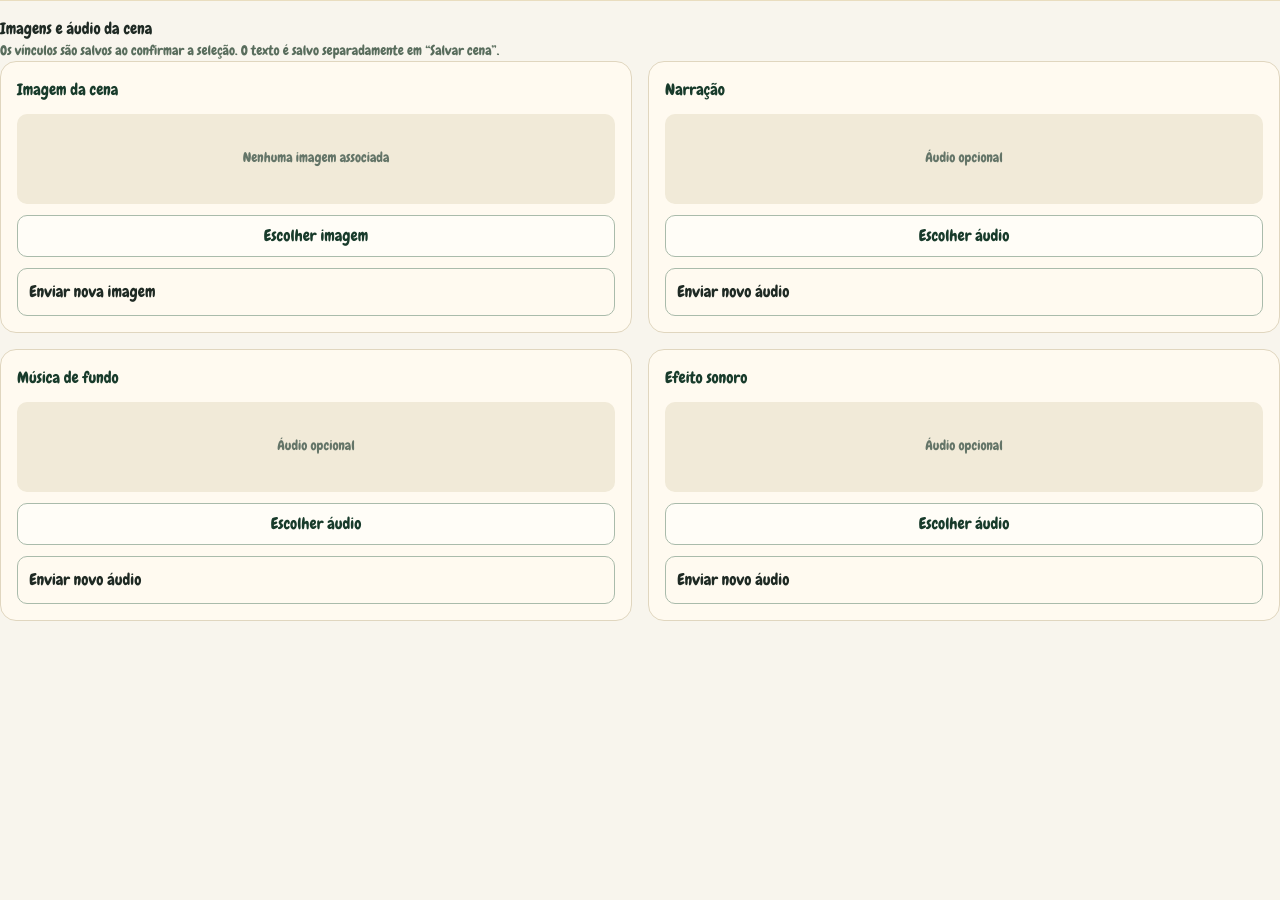
Test: seleção editorial de imagens › abre a biblioteca, seleciona e só persiste ao confirmar
The image size is (1280, 900).
Click the button "Escolher imagem" at (316, 236), box x1=17 y1=215 x2=615 y2=257
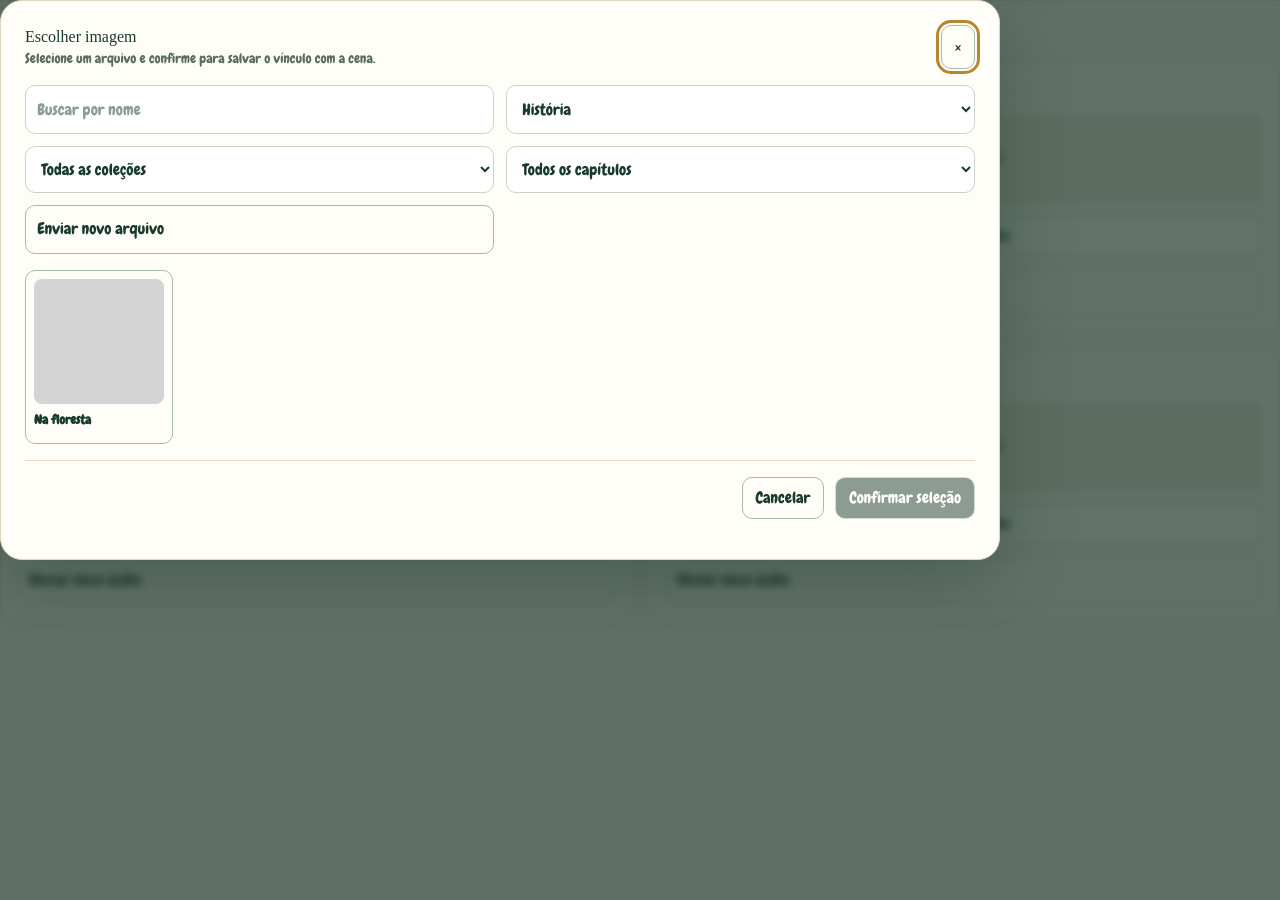
Click the button "Na floresta" at (99, 357), box x1=25 y1=270 x2=173 y2=444
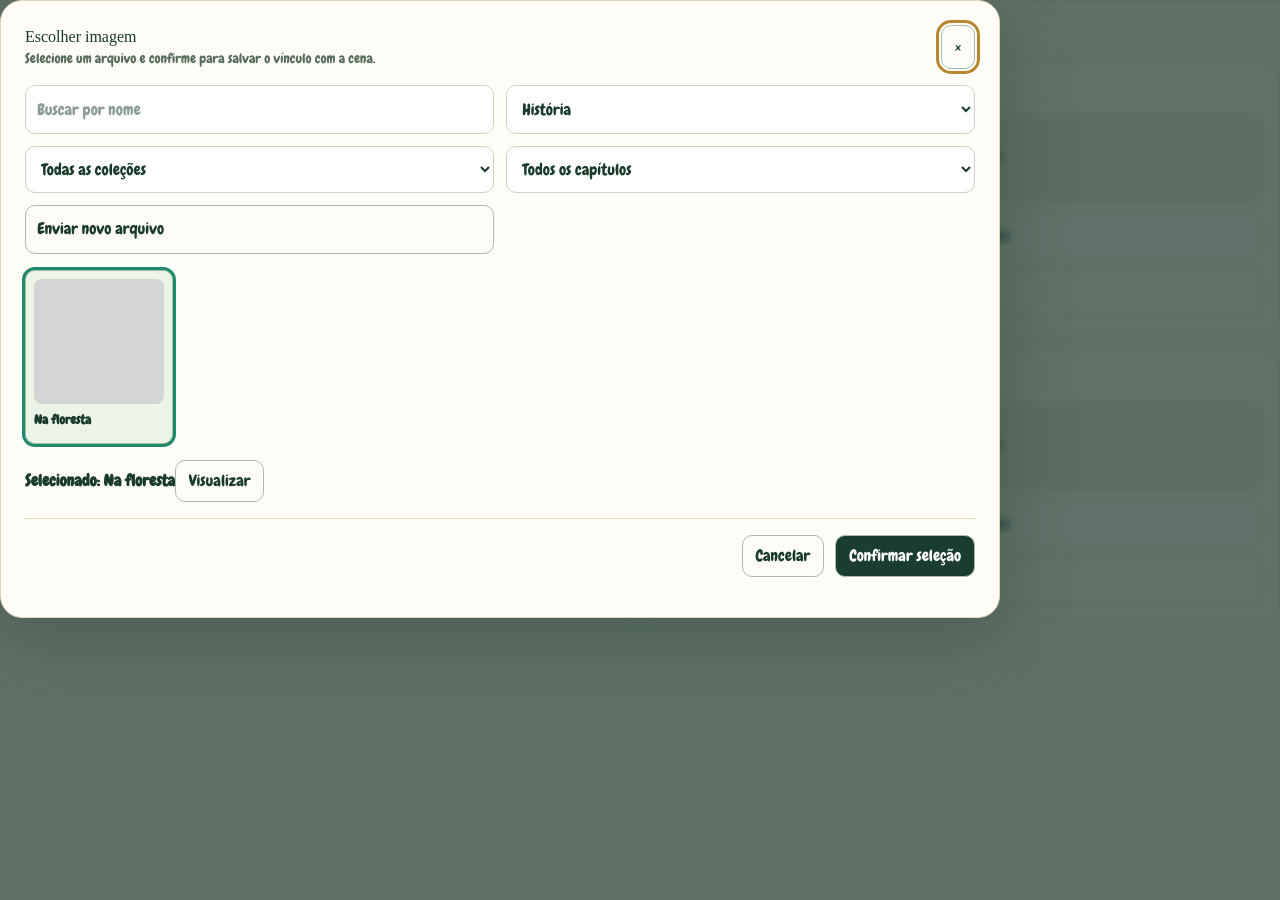
Click the button "Confirmar seleção" at (905, 556), box x1=835 y1=536 x2=975 y2=578
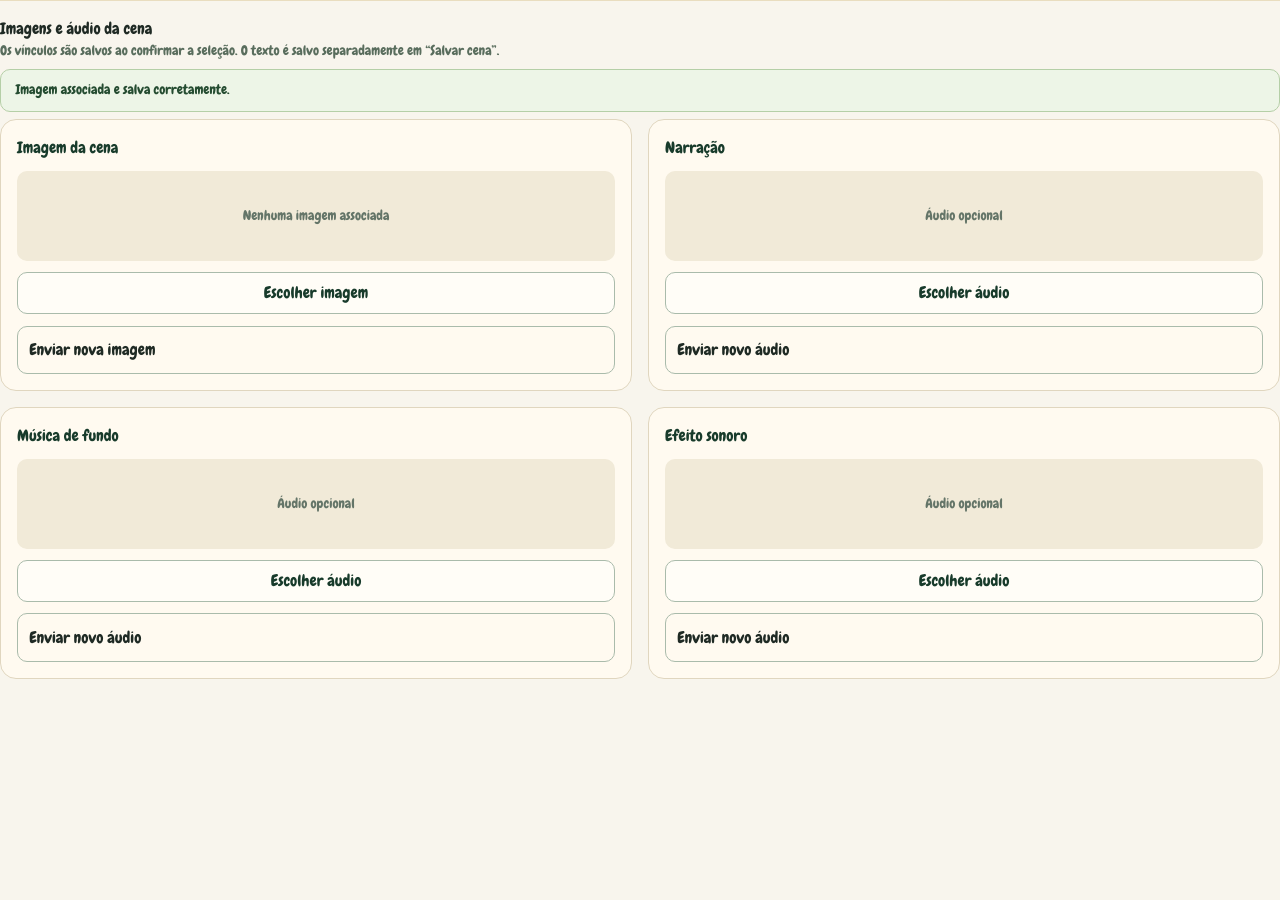
Expected: the message reads "Imagem associada e salva corretamente.", x1=15 y1=81 x2=229 y2=98
